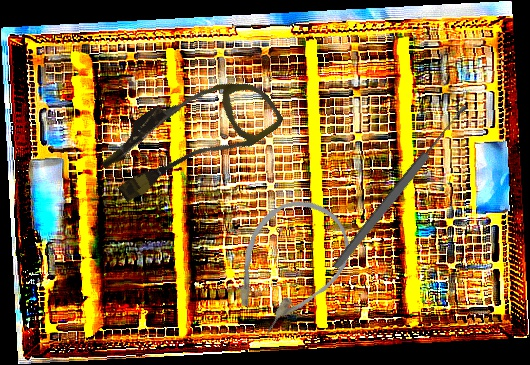Cannula: (91, 51, 287, 221), (209, 181, 367, 350)
Surgical Spoon: (330, 102, 471, 272)
